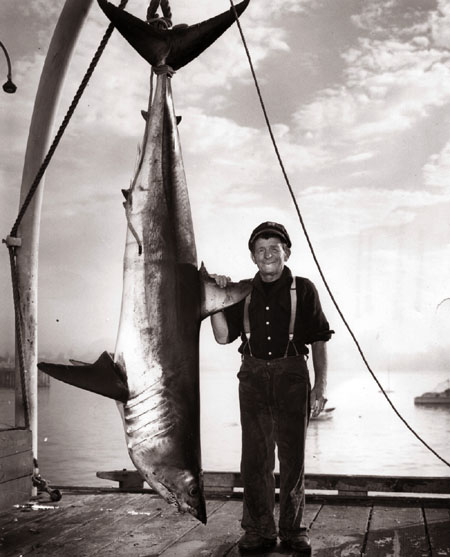shark: (24, 5, 281, 533)
